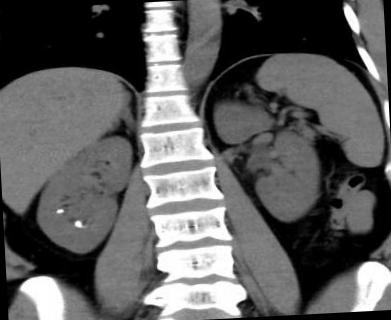Tas_Var: (70, 220, 84, 230), (54, 206, 66, 217)
